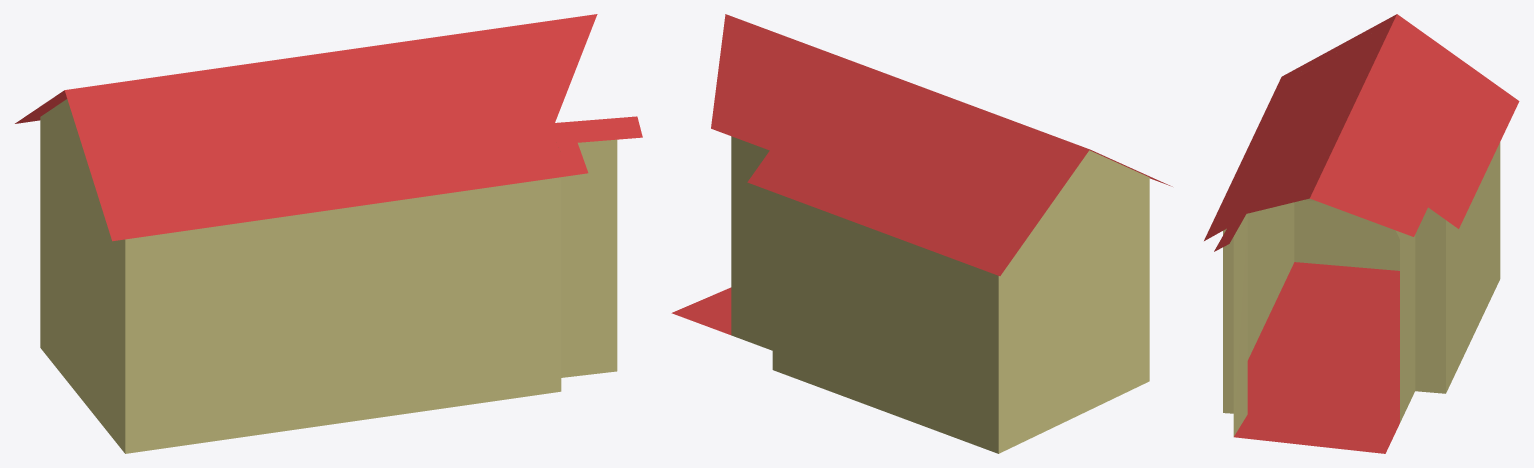
3 renders of one model, left to right at view 1: azimuth 30°, elevation 25°; view 2: azimuth 150°, elevation 25°; view 3: azimuth 270°, elevation 25°, orthographic. The views are drawn at different scales.
Bounding box in the file's own units: 21.61 × 14.42 × 12.57.
